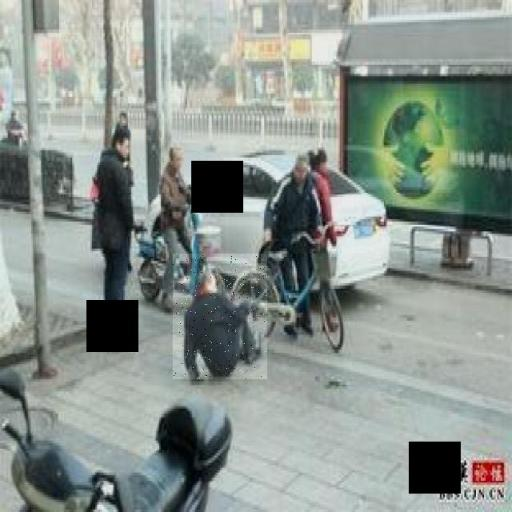Fall: (173, 254, 267, 379)
